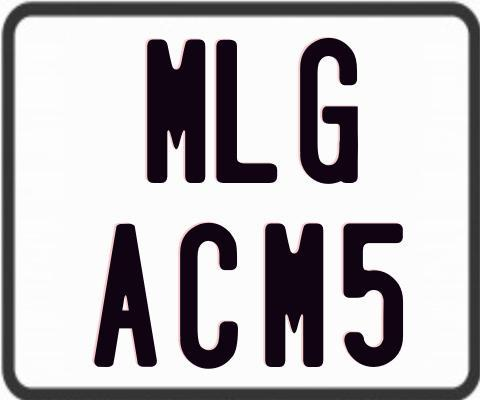5: (340, 223, 404, 370)
A: (94, 223, 163, 370)
C: (179, 220, 238, 369)
G: (300, 35, 359, 183)
L: (215, 39, 276, 182)
M: (262, 220, 326, 369), (145, 36, 204, 181)
